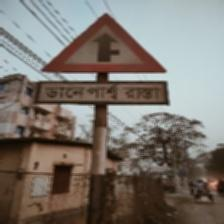Side-road-right: (38, 11, 170, 108)
